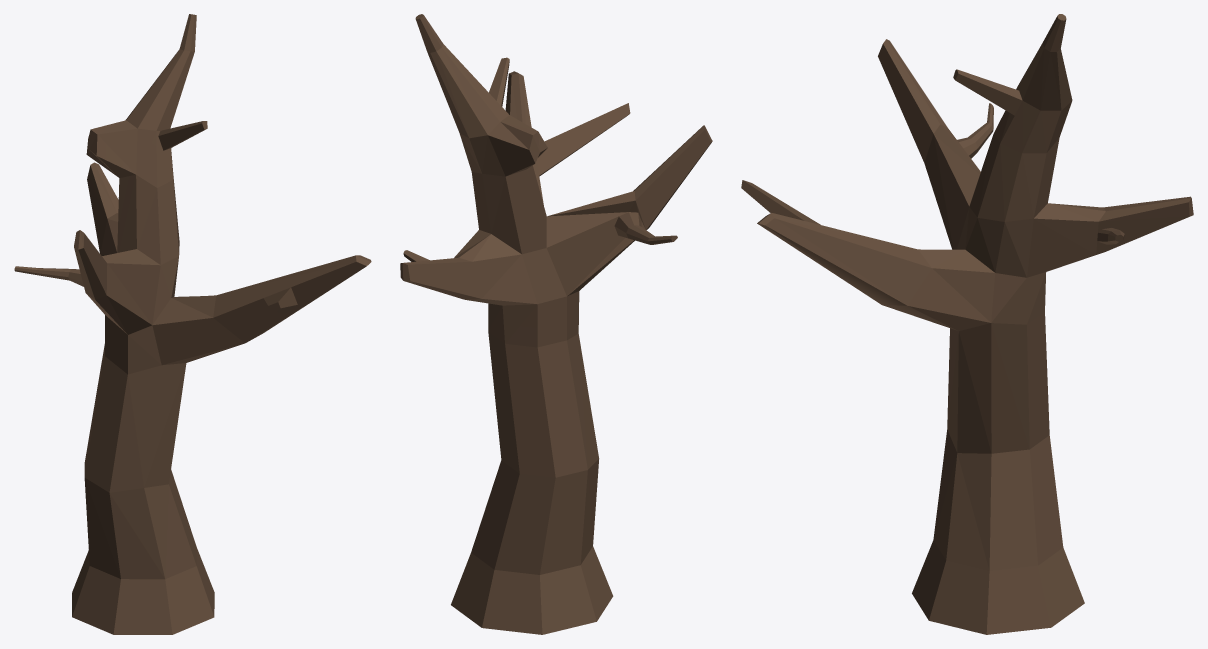
File: Vegetation_Tree_Trunk_08.fbx
3 renders of one model, left to right at view 1: azimuth 30°, elevation 25°; view 2: azimuth 150°, elevation 25°; view 3: azimuth 270°, elevation 25°, orthographic. The views are drawn at different scales.
Parts seen in each view (by area): view 1: Vegetation_Tree_Trunk_08; view 2: Vegetation_Tree_Trunk_08; view 3: Vegetation_Tree_Trunk_08.
Boxes of the visible parts, x1,y1,x2,y2 form: Vegetation_Tree_Trunk_08: (14, 14, 371, 634); Vegetation_Tree_Trunk_08: (400, 14, 712, 634); Vegetation_Tree_Trunk_08: (741, 14, 1193, 634).
Size of the model in its own units: 2049 by 4194 by 2748.
